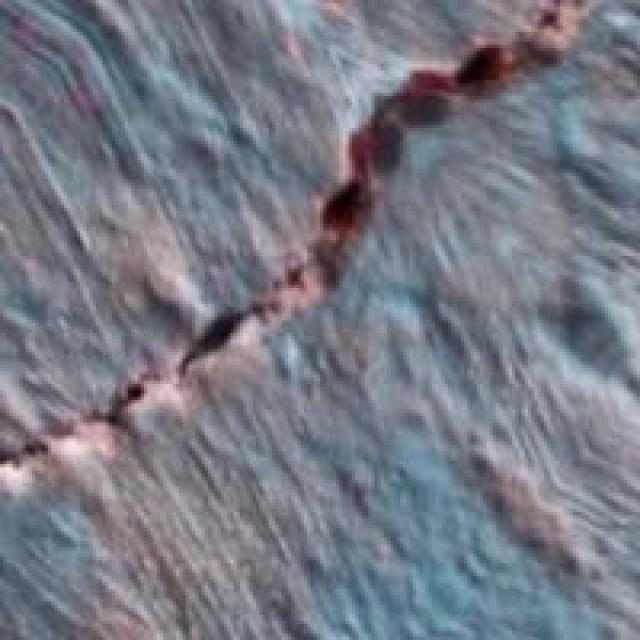crack: (0, 0, 606, 492)
